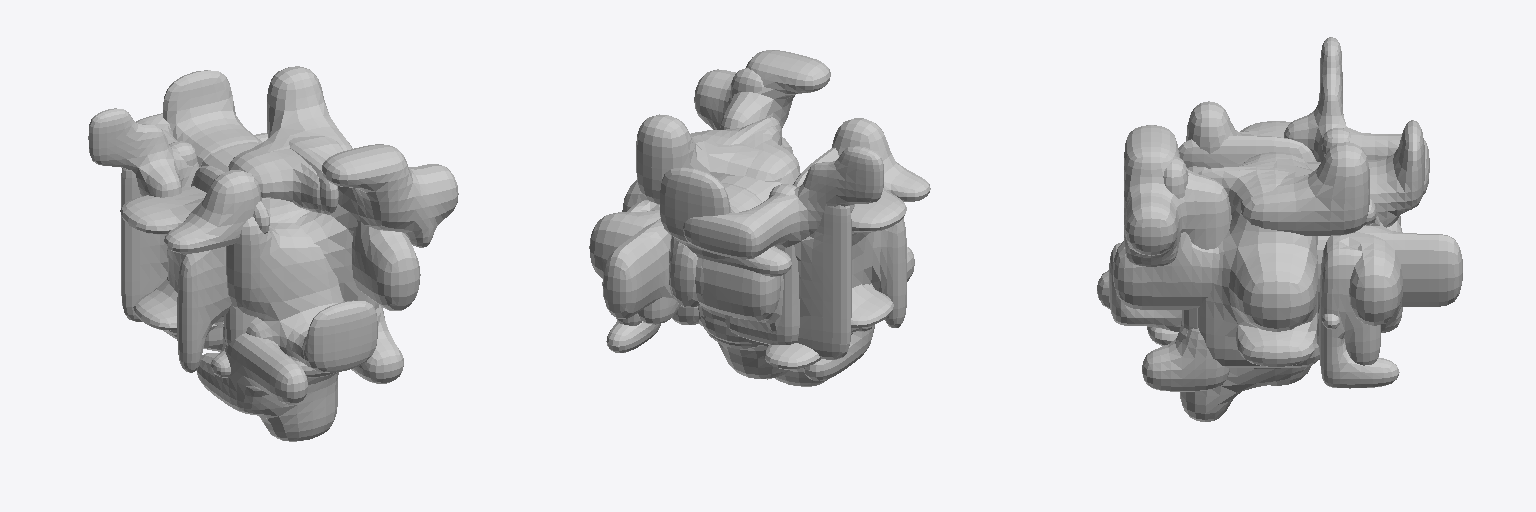
The model's file is creatures.obj.
The picture shows the model from 3 angles: view 1: azimuth 30°, elevation 25°; view 2: azimuth 150°, elevation 25°; view 3: azimuth 270°, elevation 25°; orthographic projection.
Visible parts, largest first — view 1: Individual_8, Individual_7, Individual_3, Individual_5, Individual_1, Individual_4, Individual_0, Individual_9, Individual_2; view 2: Individual_1, Individual_7, Individual_5, Individual_3, Individual_9, Individual_0, Individual_6, Individual_4, Individual_2, Individual_8; view 3: Individual_0, Individual_7, Individual_3, Individual_6, Individual_8, Individual_4, Individual_9, Individual_1, Individual_2, Individual_5.
Boxes of the visible parts, box(x1,y1,x2,y2) form: Individual_8: box(226, 217, 420, 372); Individual_7: box(133, 70, 458, 330); Individual_3: box(196, 66, 380, 441); Individual_5: box(120, 170, 261, 372); Individual_1: box(88, 108, 199, 321); Individual_4: box(169, 136, 403, 383); Individual_0: box(228, 148, 320, 212); Individual_9: box(201, 133, 309, 345); Individual_2: box(167, 166, 269, 377); Individual_1: box(683, 146, 883, 359); Individual_7: box(660, 50, 893, 327); Individual_5: box(764, 118, 930, 369); Individual_3: box(636, 114, 914, 386); Individual_9: box(602, 176, 781, 318); Individual_0: box(622, 126, 799, 324); Individual_6: box(589, 200, 680, 352); Individual_4: box(698, 117, 799, 344); Individual_2: box(701, 148, 873, 379); Individual_8: box(695, 68, 800, 348); Individual_0: box(1198, 152, 1400, 367); Individual_7: box(1124, 120, 1424, 329); Individual_3: box(1097, 142, 1369, 421); Individual_6: box(1317, 232, 1402, 388); Individual_8: box(1109, 157, 1219, 331); Individual_4: box(1142, 128, 1350, 391); Individual_9: box(1307, 162, 1462, 306); Individual_1: box(1284, 37, 1429, 194); Individual_2: box(1178, 136, 1316, 385); Individual_5: box(1186, 101, 1290, 153).
Bounding box in the file's own units: 7.57 × 8.02 × 8.52.